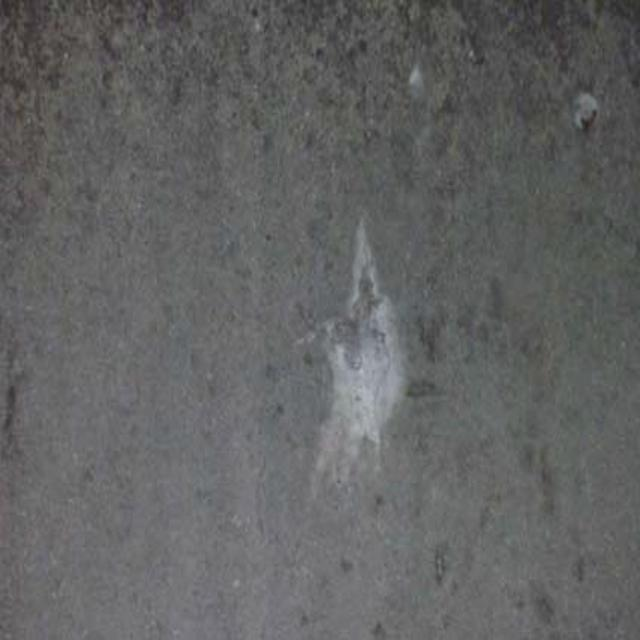spalling: (324, 267, 396, 386)
